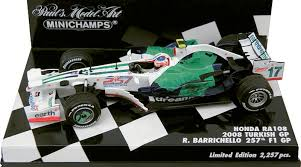FormulaOneCar: (17, 34, 287, 132)
